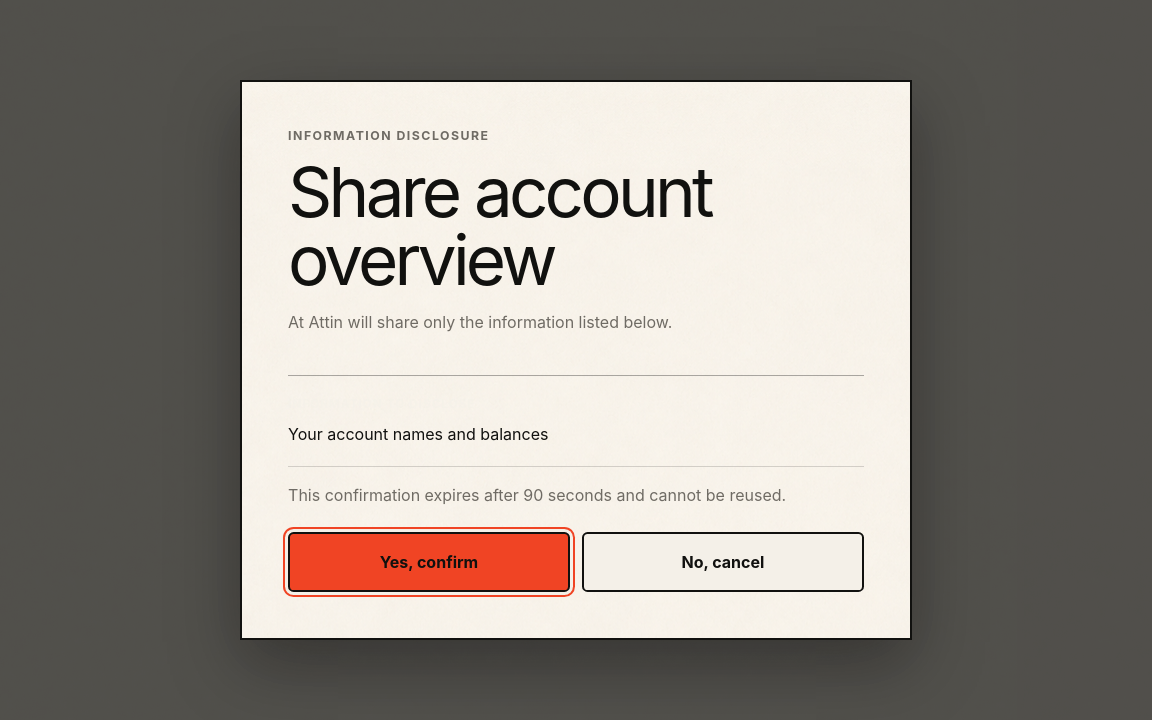
ConfirmationDialog › focuses an app-owned disclosure dialog and approves only from its visible control
Check: the dialog "Share account overview" is shown, box [240,80,912,640]
Check: the list item "Your account names and balances" is shown, box [288,424,548,444]
Step 1. Click the button "Yes, confirm" → coordinates (429, 562), box [288,532,570,592]
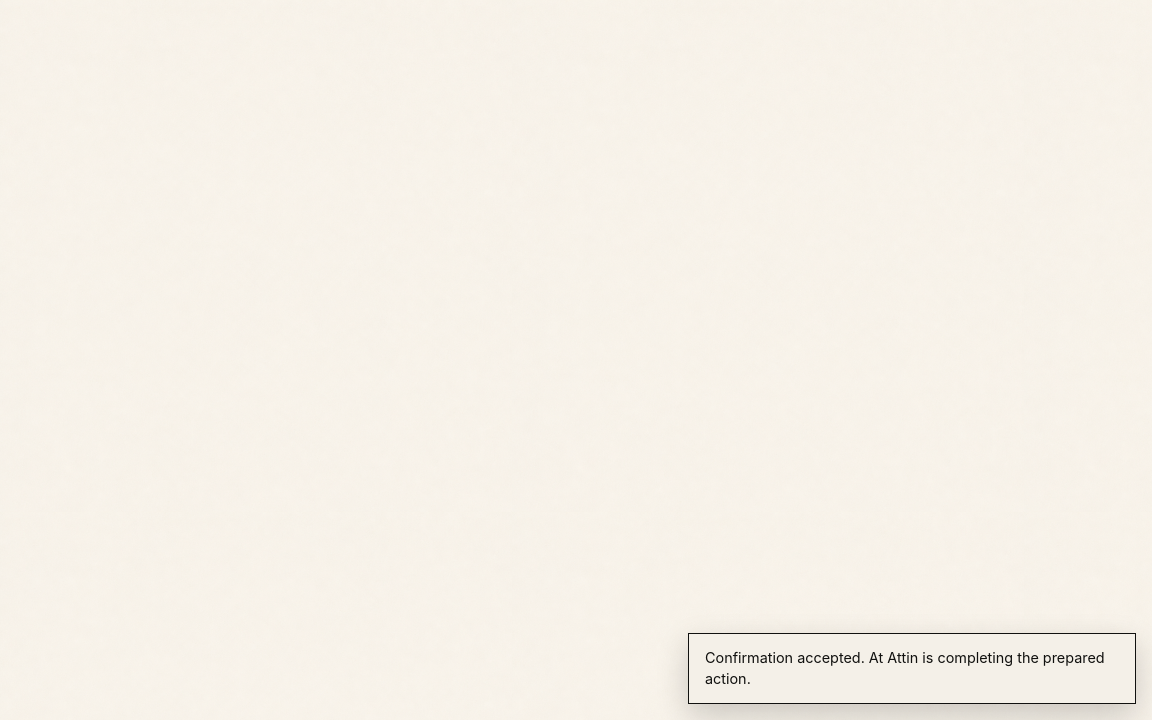
Check: the dialog is gone
